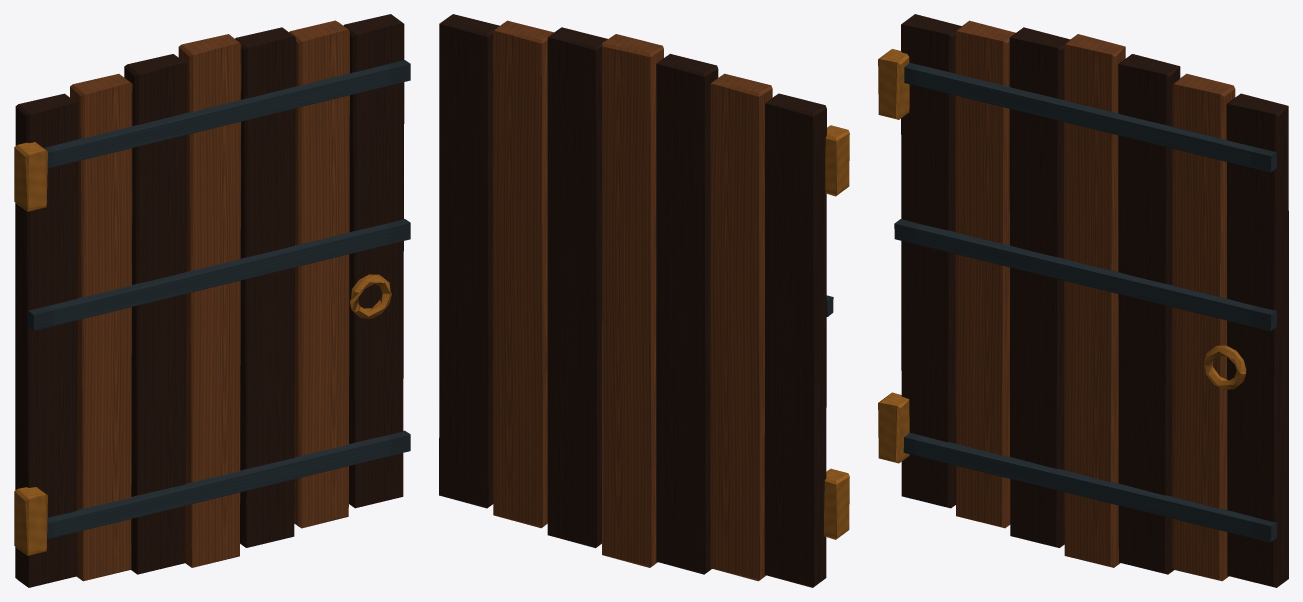
The model's file is Folha_portao_LOD1.fbx.
3 views of the same model, side by side, from view 1: azimuth 30°, elevation 25°; view 2: azimuth 150°, elevation 25°; view 3: azimuth 330°, elevation 25° (orthographic).
Visible parts, largest first — view 1: Folha_portao_LOD1; view 2: Folha_portao_LOD1; view 3: Folha_portao_LOD1.
Boxes of the visible parts, left/top/right/bottom form: Folha_portao_LOD1: left=14, top=14, right=410, bottom=587; Folha_portao_LOD1: left=439, top=14, right=849, bottom=587; Folha_portao_LOD1: left=878, top=14, right=1288, bottom=587.
Bounding box in the file's own units: 308 × 390 × 35.
1 material, 1 textured.
